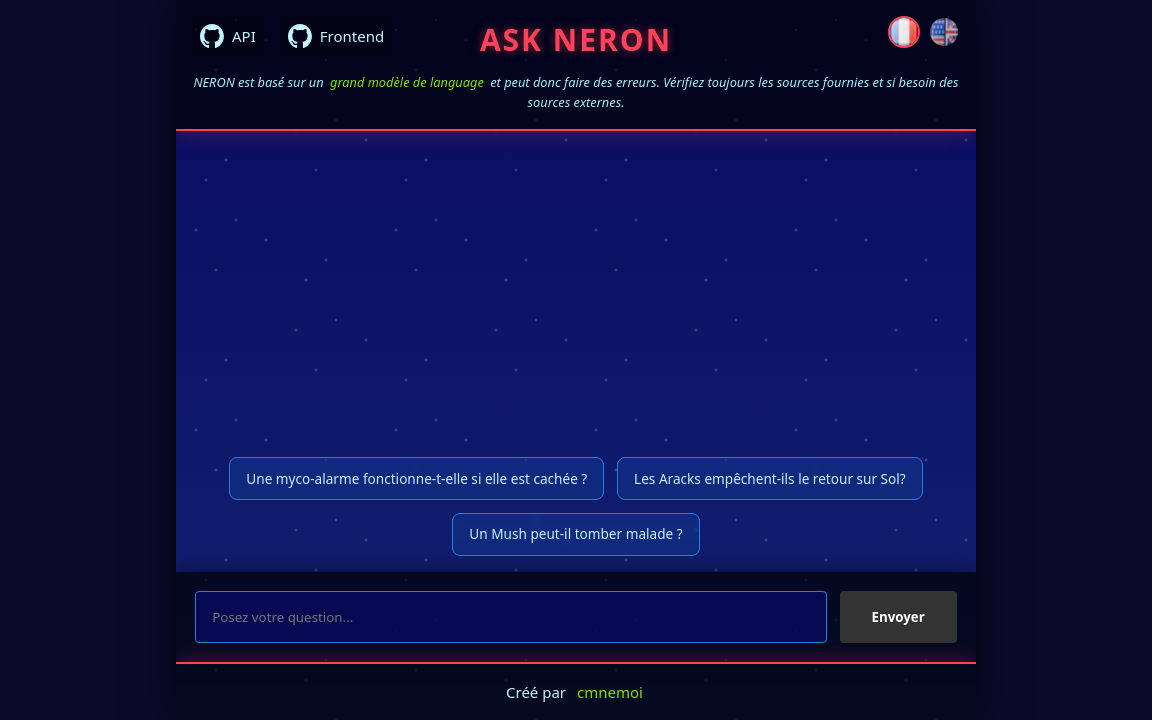
it: ChatBot › sends selected example question as message
Click the 1st text with class "example-question": coordinates (417, 478) [229,457,604,500]
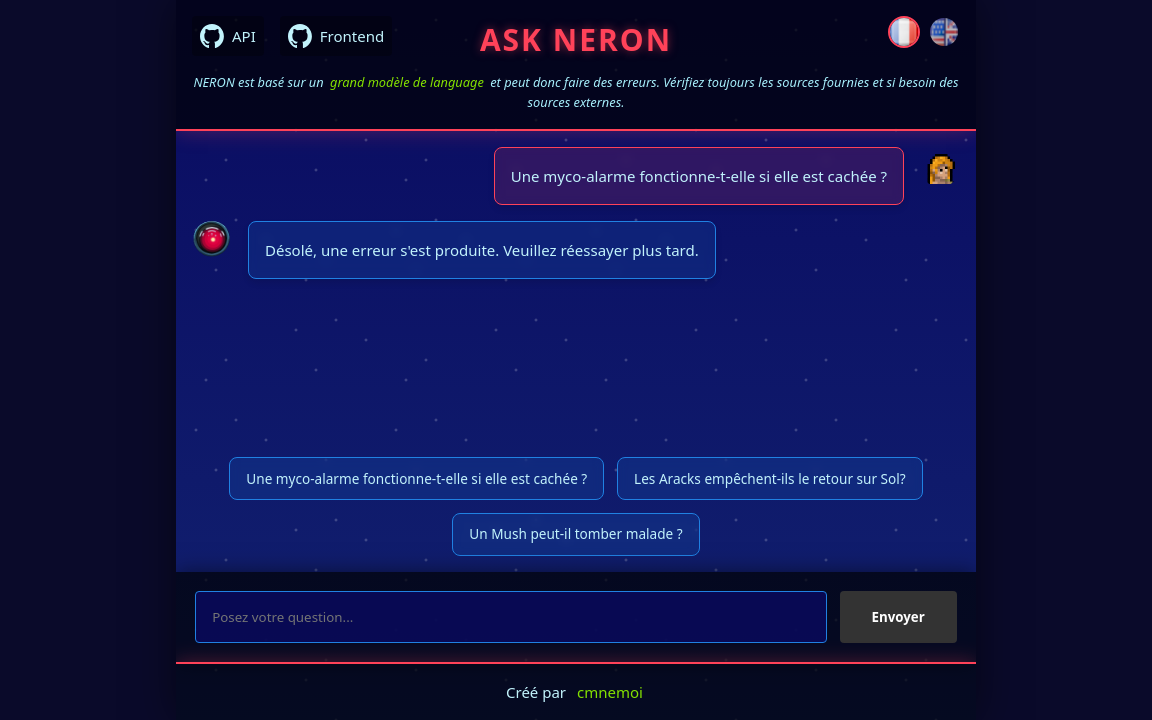
Check: the element with class "message" reads "Une myco-alarme fonctionne-t-elle si elle est cachée ?", box [511,166,887,186]
